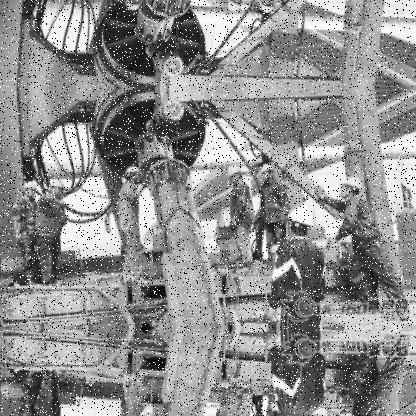Helmet: (282, 200, 320, 244), (335, 173, 364, 205), (16, 178, 42, 203), (45, 178, 70, 203), (224, 164, 248, 190), (120, 162, 142, 184), (258, 162, 278, 186), (258, 0, 279, 20), (221, 0, 246, 16), (121, 0, 144, 15)
